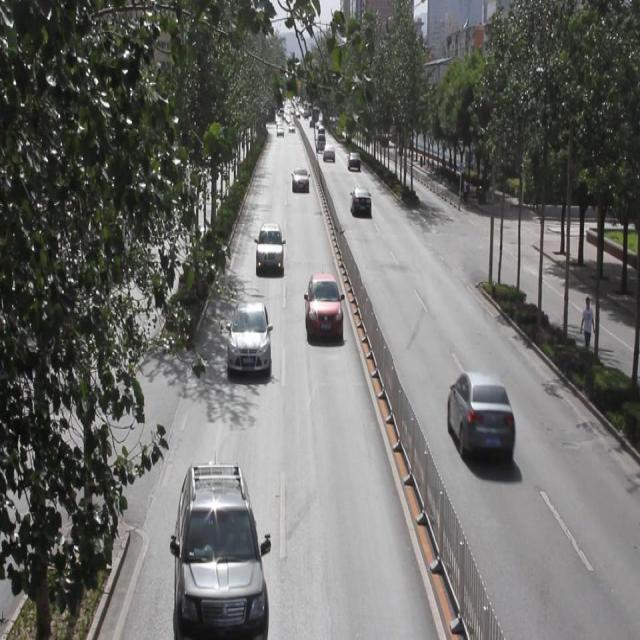car: (174, 462, 268, 640), (446, 371, 514, 460), (227, 300, 271, 374), (304, 273, 343, 342), (256, 222, 284, 272), (350, 186, 371, 218), (290, 168, 310, 192), (347, 151, 361, 170), (322, 142, 334, 162)
truck: (316, 132, 325, 150)
